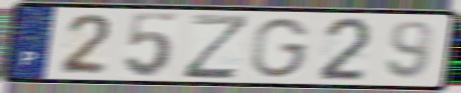2: (316, 15, 374, 83), (59, 12, 114, 76)
5: (122, 10, 185, 80)
9: (384, 19, 437, 82)
G: (249, 16, 314, 80)
Z: (180, 12, 254, 81)
